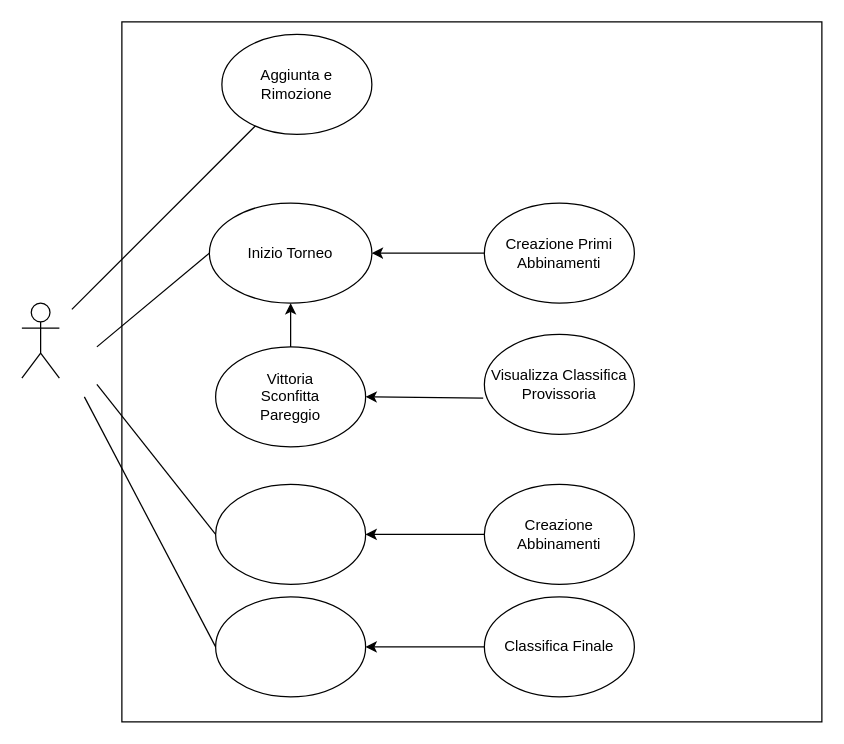
Some shapes in this 844 by 744 pixel diagram are drawn without their labels. Here are the shapes that lost their labels. From the top down, the centre of each, then its label:
At pixel 40 340: "Actor".
At pixel 290 533: "Nuovi turni".
At pixel 290 646: "Fine Torneo".
